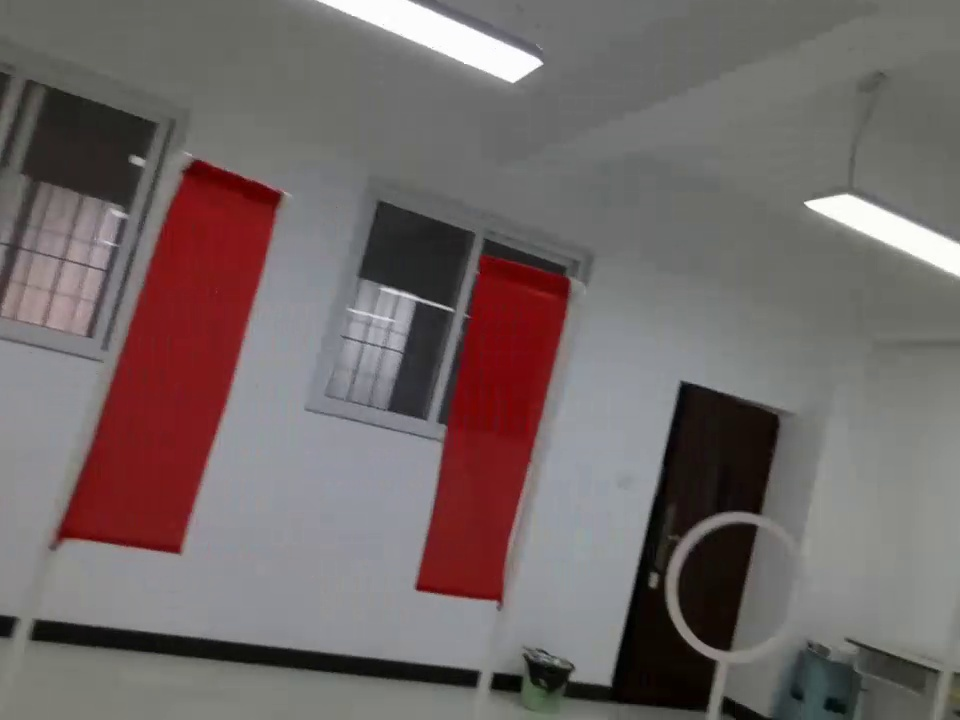qi: (41, 149, 290, 596), (404, 247, 585, 643)
quan: (655, 503, 816, 675)
